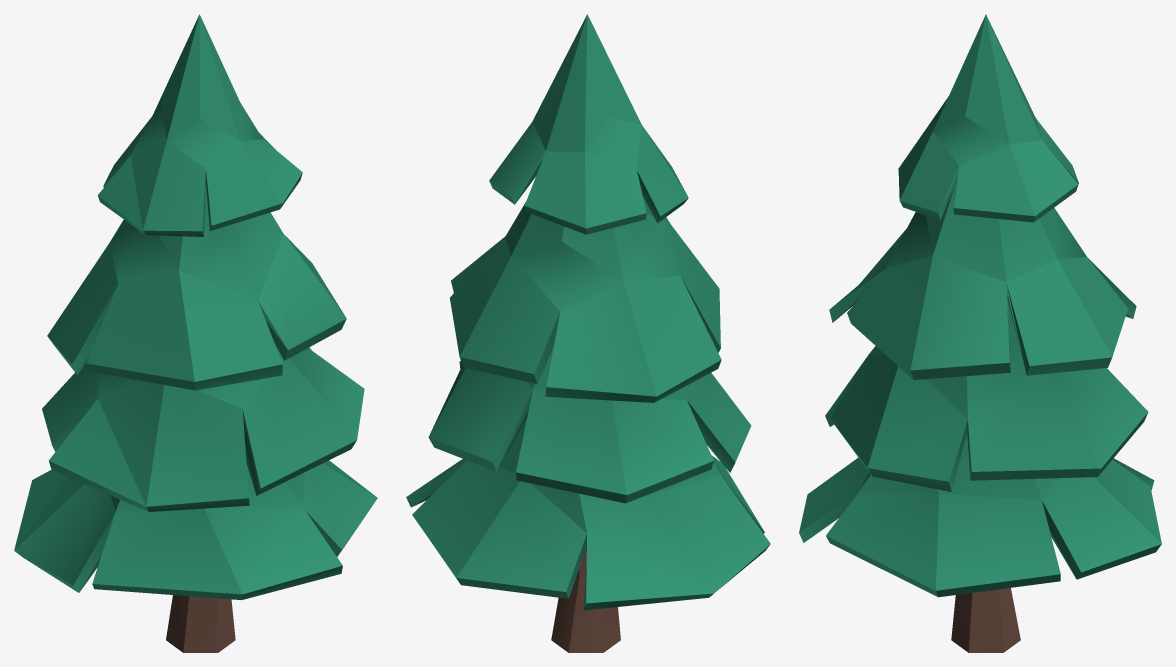
The model's file is fir_tree_010.glb.
3 renders of one model, left to right at view 1: azimuth 30°, elevation 25°; view 2: azimuth 150°, elevation 25°; view 3: azimuth 270°, elevation 25°, orthographic.
Parts seen in each view (by area): view 1: fir_tree_010; view 2: fir_tree_010; view 3: fir_tree_010.
Part boxes in pixels (x1,y1,x2,y2): fir_tree_010: (14,14,377,652); fir_tree_010: (406,14,770,652); fir_tree_010: (799,14,1161,652).
Size of the model in its own units: 2.58 by 5 by 2.63.
1 material, 1 textured.
